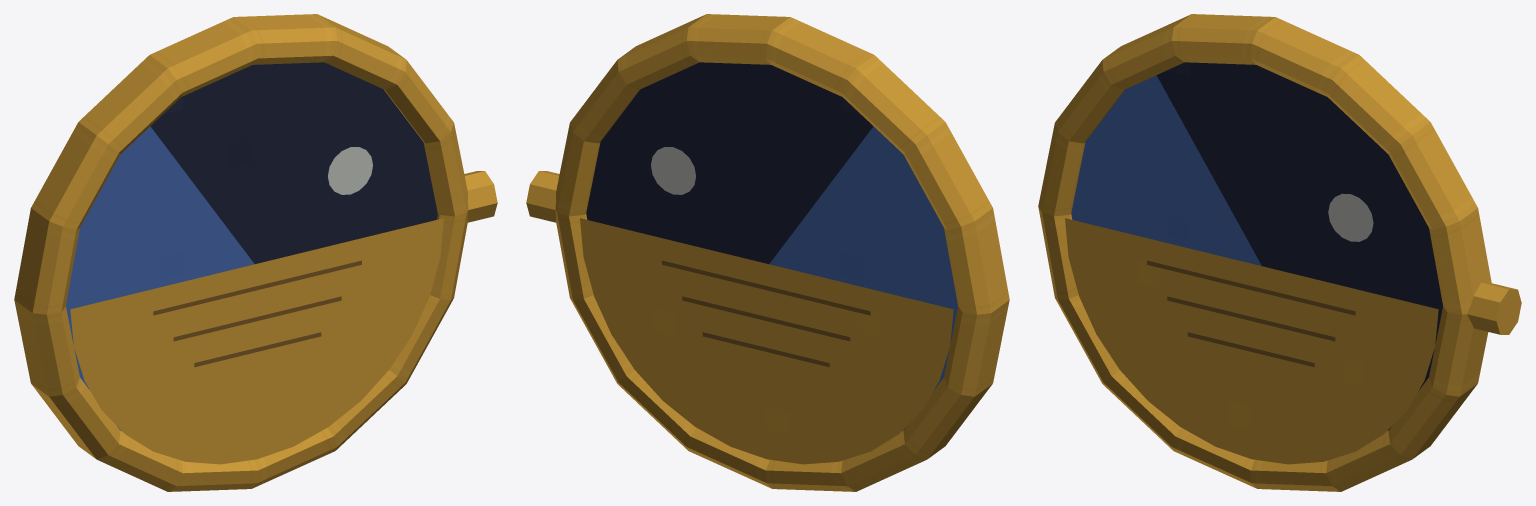
The model's file is clock_42.obj.
3 views of the same model, side by side, from view 1: azimuth 30°, elevation 25°; view 2: azimuth 150°, elevation 25°; view 3: azimuth 330°, elevation 25° (orthographic).
Bounding box in the file's own units: 0.6363 × 0.6037 × 0.075.
